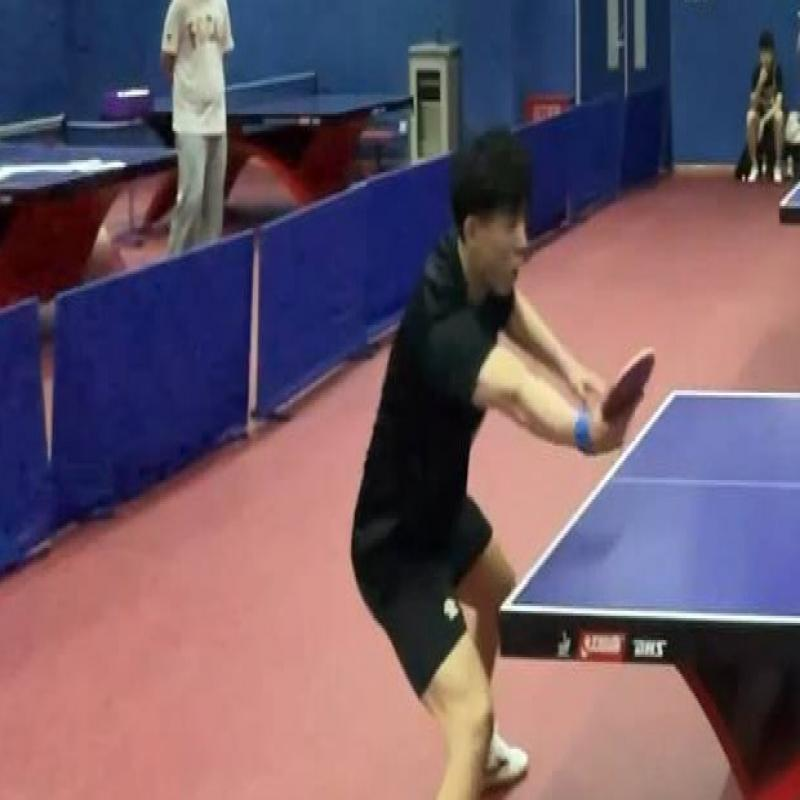bats: (598, 344, 660, 444)
